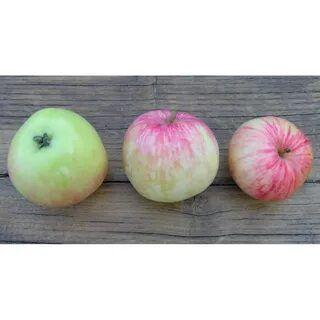Apple: (8, 108, 108, 208), (123, 110, 220, 202), (230, 116, 312, 200)
